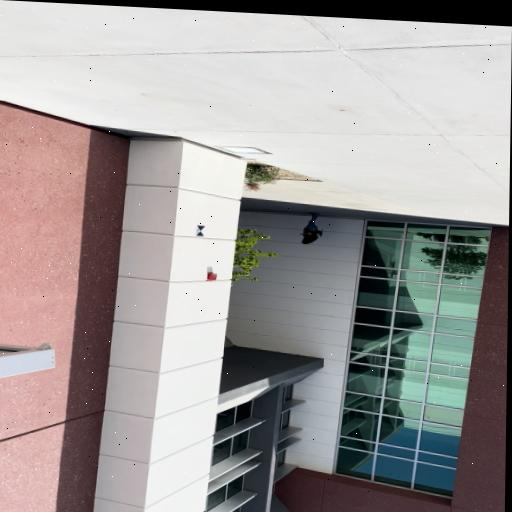target2: (193, 225, 205, 236)
